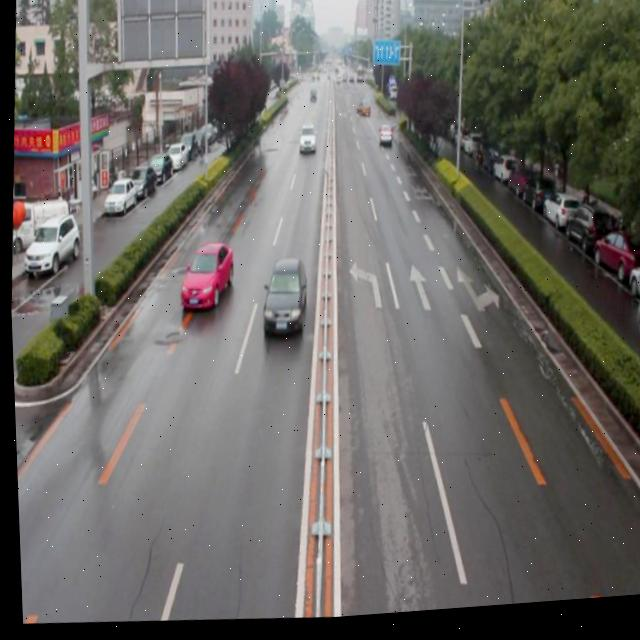car: (175, 239, 235, 321), (257, 259, 308, 341), (297, 128, 317, 158), (375, 127, 392, 154), (354, 102, 371, 122)
